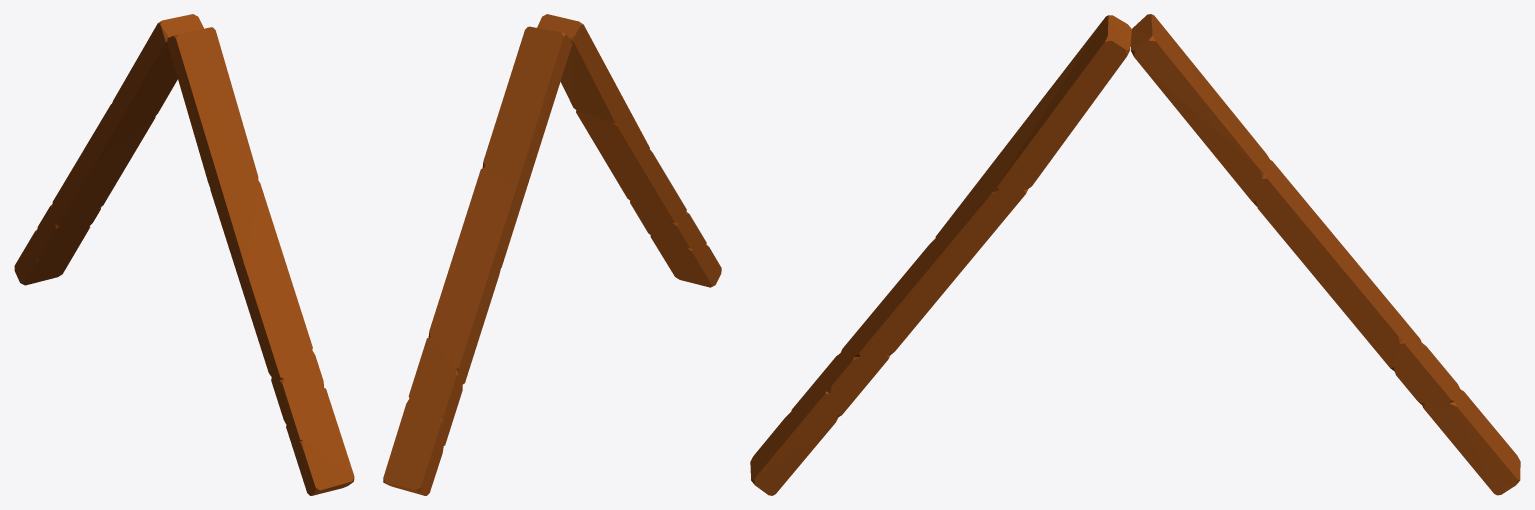
Rendered from WoodNormalRoofPillars.fbx.
3 views of the same model, side by side, from view 1: azimuth 30°, elevation 25°; view 2: azimuth 150°, elevation 25°; view 3: azimuth 270°, elevation 25° (orthographic). The views are drawn at different scales.
Visible parts, largest first — view 1: WoodNormalRoofPillars; view 2: WoodNormalRoofPillars; view 3: WoodNormalRoofPillars.
Part boxes in pixels (bbox=[...]): WoodNormalRoofPillars: bbox=[14, 14, 354, 495]; WoodNormalRoofPillars: bbox=[383, 14, 721, 495]; WoodNormalRoofPillars: bbox=[750, 14, 1520, 495].
Size of the model in its own units: 160 by 1402 by 2112.
